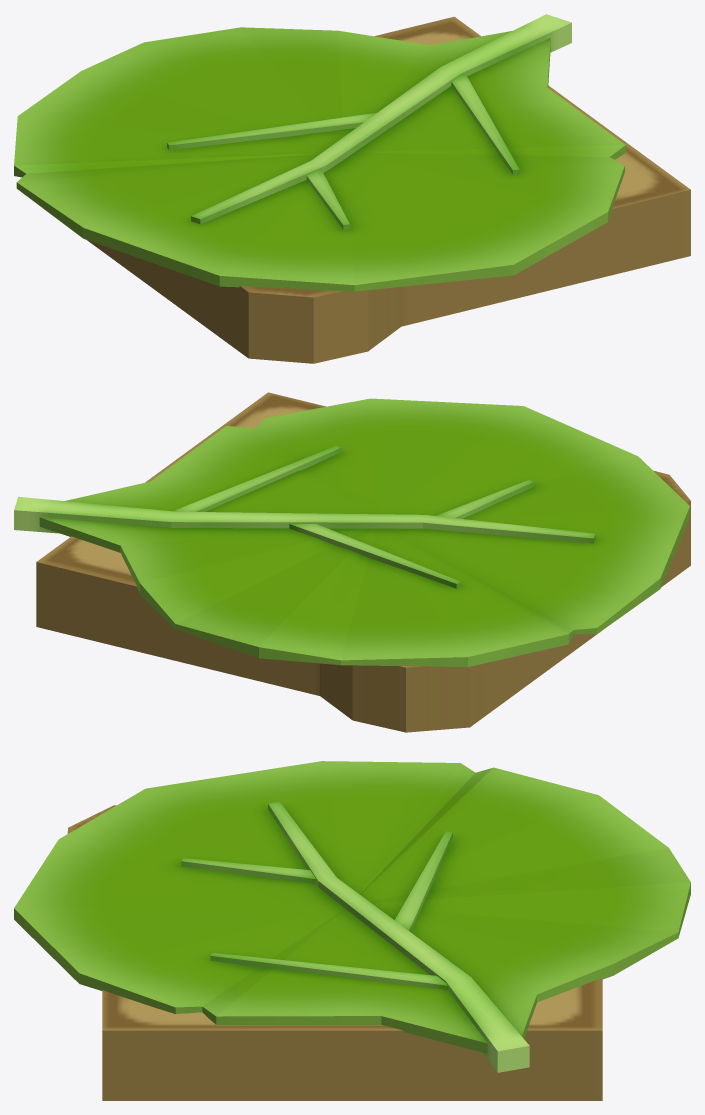
The model's file is Sandwich2.fbx.
3 renders of one model, top to bottom at view 1: azimuth 30°, elevation 25°; view 2: azimuth 150°, elevation 25°; view 3: azimuth 270°, elevation 25°, orthographic. The views are drawn at different scales.
Parts seen in each view (by area): view 1: polySurface18; view 2: polySurface18; view 3: polySurface18.
Part boxes in pixels (left/top/right/bottom): polySurface18: left=14, top=14, right=690, bottom=363; polySurface18: left=14, top=392, right=690, bottom=732; polySurface18: left=14, top=761, right=690, bottom=1100.
Size of the model in its own units: 1.31 by 0.1749 by 1.27.
